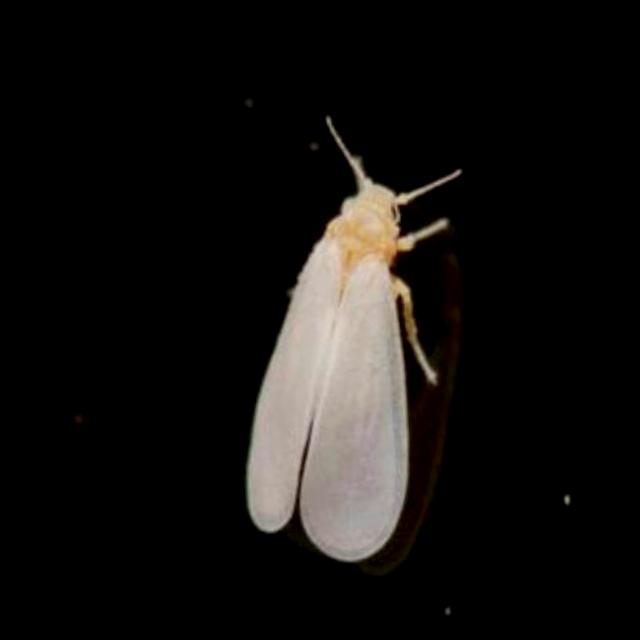Silverleaf whitefly: (188, 94, 514, 574)
